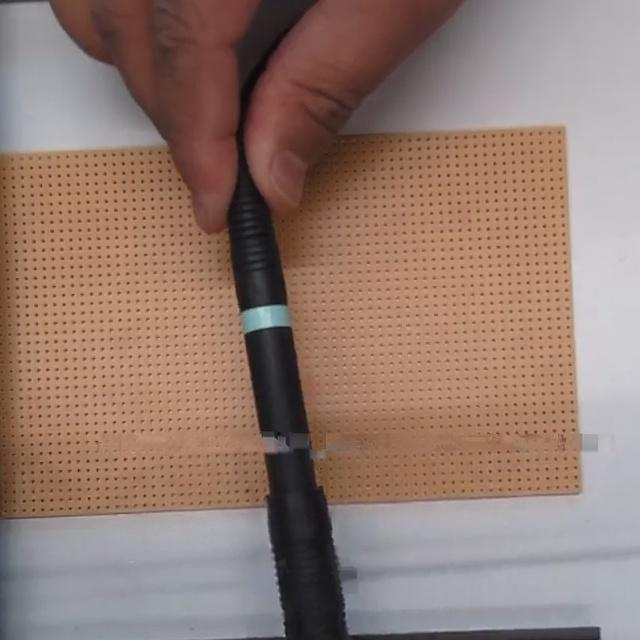soldering_iron: (219, 148, 358, 639)
